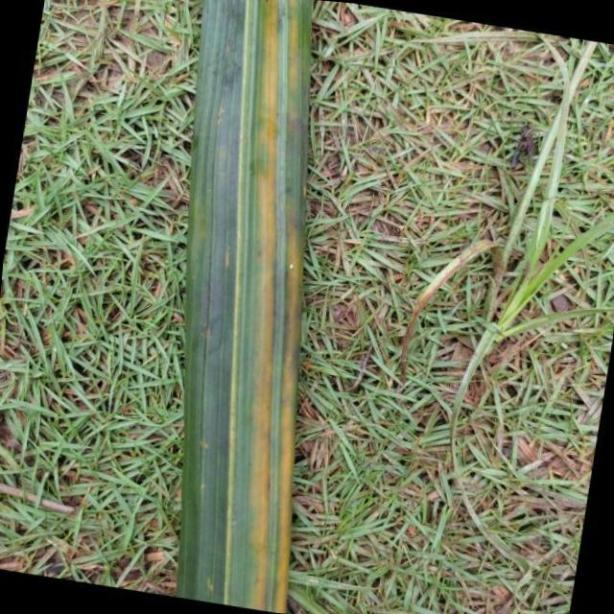Megnesium: (192, 0, 315, 614)
